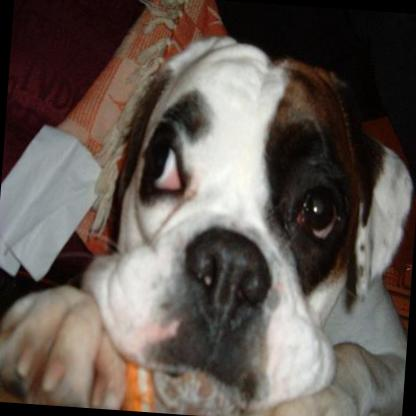boxer: (0, 14, 416, 416)
